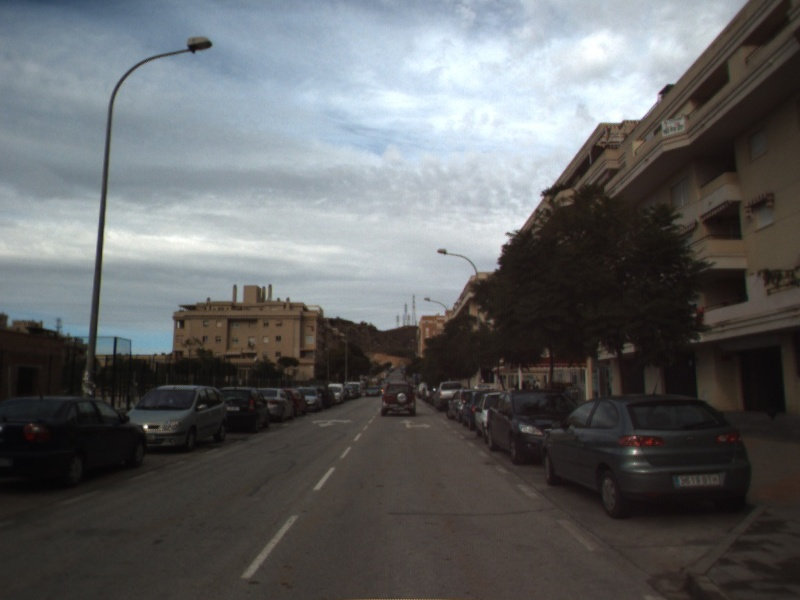STRAIGHT_RIGHT: (398, 418, 434, 430)
